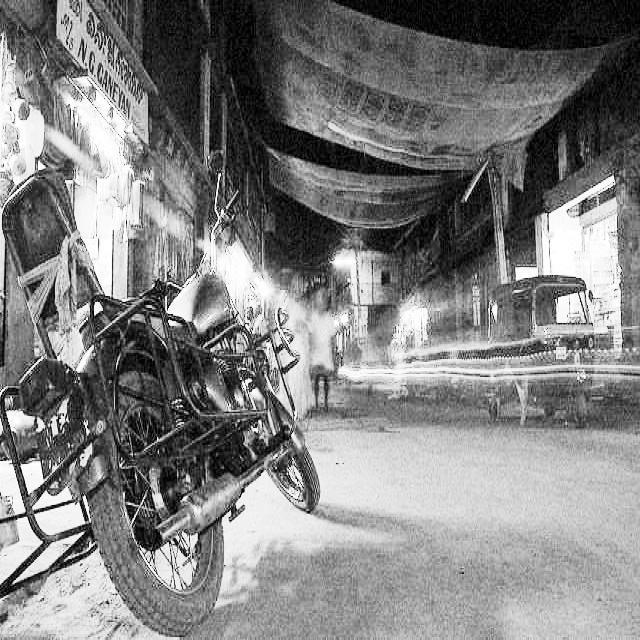Motorcycle: (17, 249, 320, 620)
